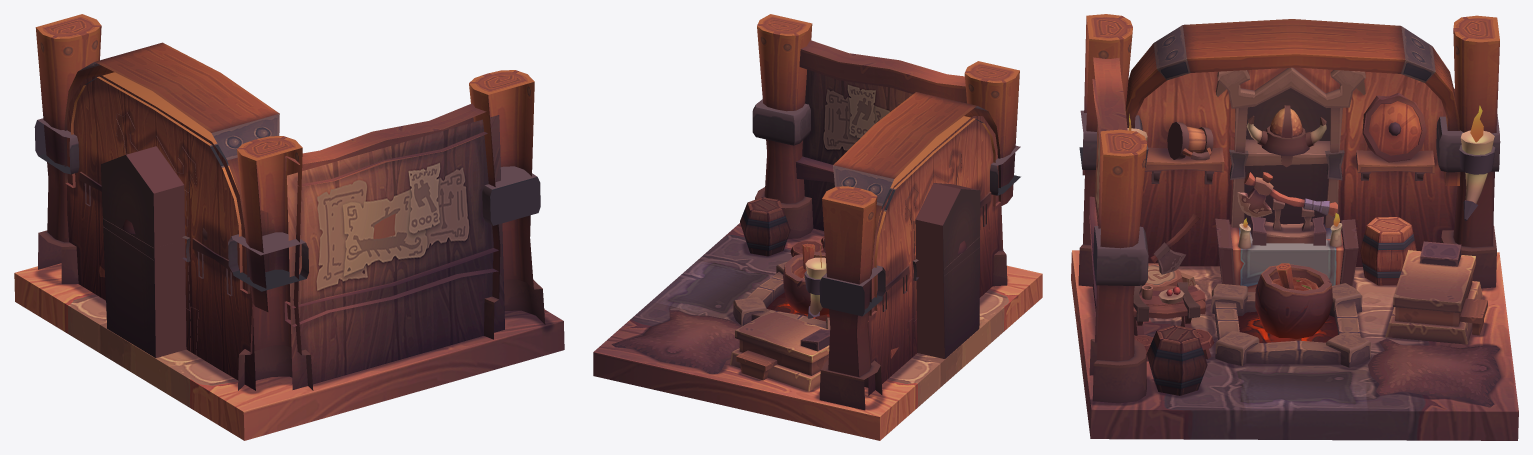
File: viking_room.gltf
3 renders of one model, left to right at view 1: azimuth 30°, elevation 25°; view 2: azimuth 150°, elevation 25°; view 3: azimuth 270°, elevation 25°, orthographic. The views are drawn at different scales.
Parts seen in each view (by area): view 1: mesh_all1_Texture1_0; view 2: mesh_all1_Texture1_0; view 3: mesh_all1_Texture1_0.
Part boxes in pixels (bbox=[...]): mesh_all1_Texture1_0: bbox=[14, 14, 564, 440]; mesh_all1_Texture1_0: bbox=[593, 14, 1042, 440]; mesh_all1_Texture1_0: bbox=[1071, 14, 1518, 440].
Bounding box in the file's own units: 1.39 × 1.08 × 1.53.
Materials: 1 (1 with a texture image).
